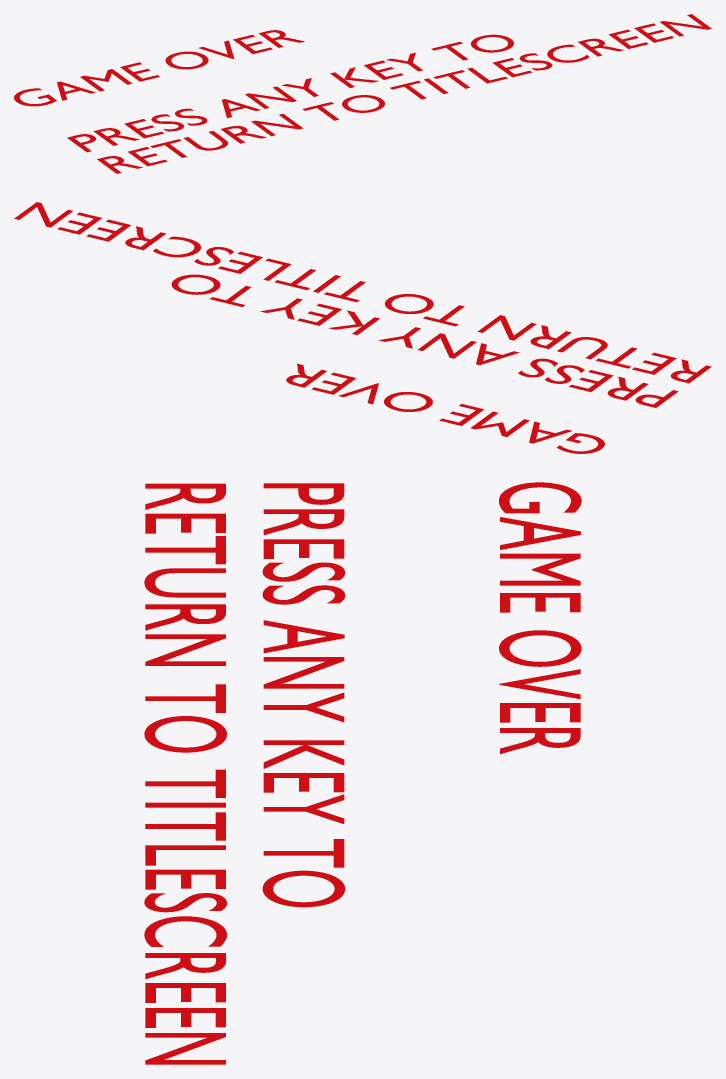
The model's file is gameOver.fbx.
The picture shows the model from 3 angles, top to bottom: view 1: azimuth 30°, elevation 25°; view 2: azimuth 150°, elevation 25°; view 3: azimuth 270°, elevation 25°; orthographic projection. The views are drawn at different scales.
Visible parts, largest first — view 1: Text; view 2: Text; view 3: Text.
Part boxes in pixels (x1,y1,x2,y2): Text: (14, 14, 711, 173); Text: (14, 202, 711, 453); Text: (144, 482, 581, 1064).
Bounding box in the file's own units: 1166 × 6.03e-05 × 370.
